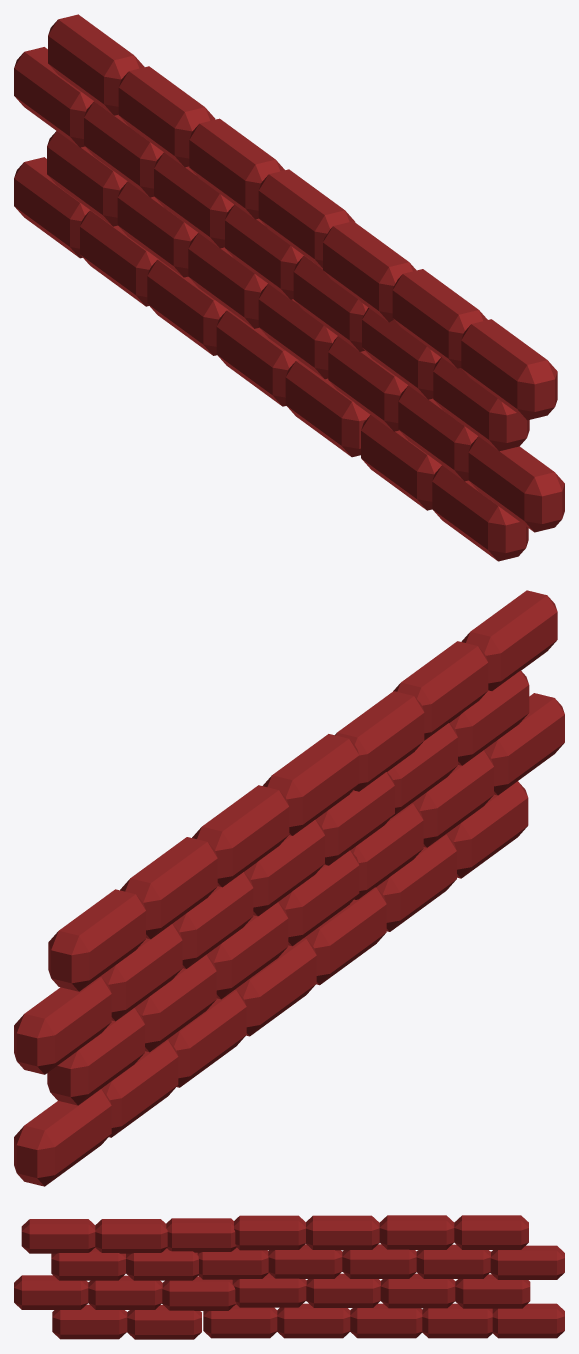
Rendered from Wall.fbx.
The picture shows the model from 3 angles, top to bottom: view 1: azimuth 30°, elevation 25°; view 2: azimuth 150°, elevation 25°; view 3: azimuth 270°, elevation 25°; orthographic projection. The views are drawn at different scales.
Visible parts, largest first — view 1: pasted__group18_pasted__group14_pasted__pasted__group13_past; view 2: pasted__group18_pasted__group14_pasted__pasted__group13_past; view 3: pasted__group18_pasted__group14_pasted__pasted__group13_past.
Part boxes in pixels (x1,y1,x2,y2): pasted__group18_pasted__group14_pasted__pasted__group13_past: (14,14,564,561); pasted__group18_pasted__group14_pasted__pasted__group13_past: (14,590,564,1186); pasted__group18_pasted__group14_pasted__pasted__group13_past: (14,1215,564,1339).
Size of the model in its own units: 1.37 by 6.68 by 28.2.
